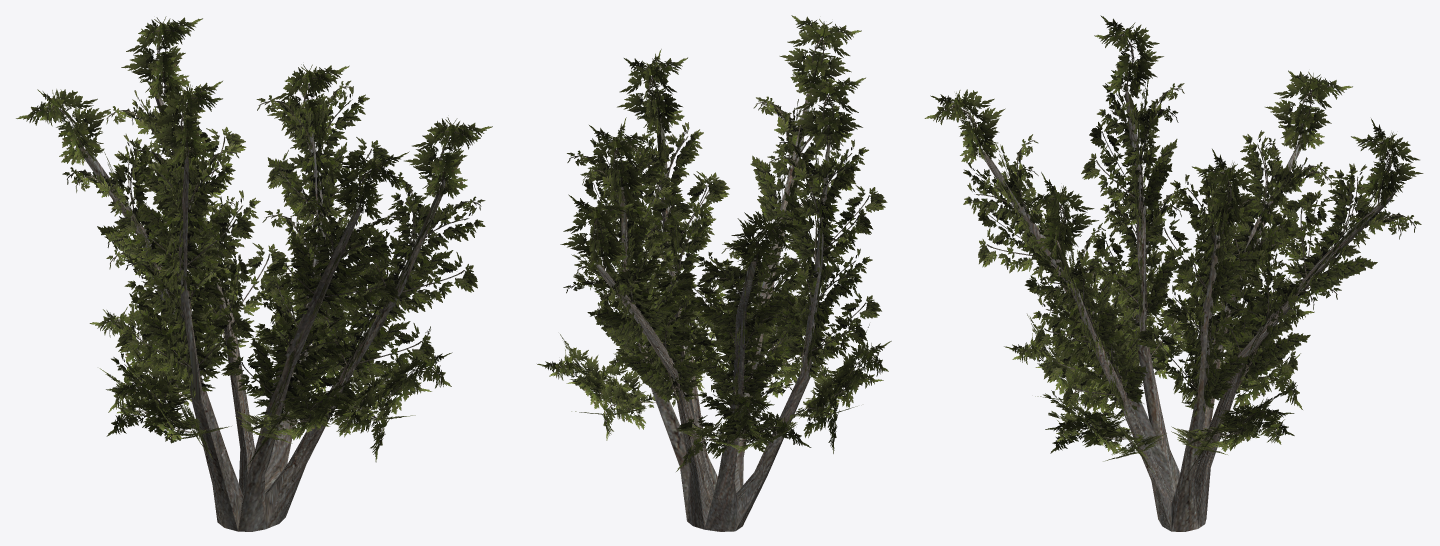
File: Sharp_Maple09.gltf
The picture shows the model from 3 angles, left to right: view 1: azimuth 30°, elevation 25°; view 2: azimuth 150°, elevation 25°; view 3: azimuth 270°, elevation 25°; orthographic projection. The views are drawn at different scales.
Visible parts, largest first — view 1: Bfol, Cfol, Afol, Trunk, Dfol; view 2: Bfol, Cfol, Afol, Dfol, Trunk; view 3: Bfol, Cfol, Afol, Trunk, Dfol.
Boxes of the visible parts, <box> form: Bfol: <box>62,78,485,321</box>; Cfol: <box>104,190,442,423</box>; Afol: <box>16,16,492,221</box>; Trunk: <box>78,80,445,531</box>; Dfol: <box>89,268,452,471</box>; Bfol: <box>563,96,887,345</box>; Cfol: <box>574,209,881,408</box>; Afol: <box>560,15,865,276</box>; Dfol: <box>537,284,891,471</box>; Trunk: <box>596,88,830,531</box>; Bfol: <box>963,79,1421,362</box>; Cfol: <box>1032,184,1341,420</box>; Afol: <box>924,15,1423,259</box>; Trunk: <box>982,91,1395,531</box>; Dfol: <box>1004,255,1314,477</box>.
Bounding box in the file's own units: 10.29 × 13.69 × 13.75.
Materials: 2 (2 with a texture image).
